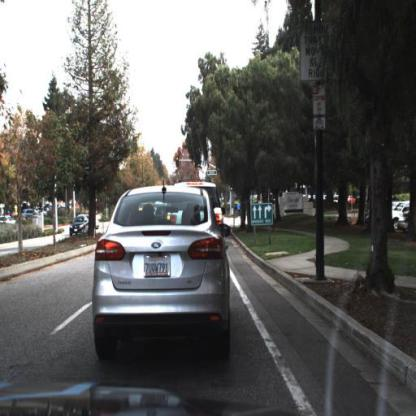car: (94, 187, 231, 361), (209, 181, 223, 225), (389, 199, 408, 230), (69, 214, 88, 237)
pedestrian: (238, 200, 242, 221)
trafficLight: (176, 157, 181, 169)
